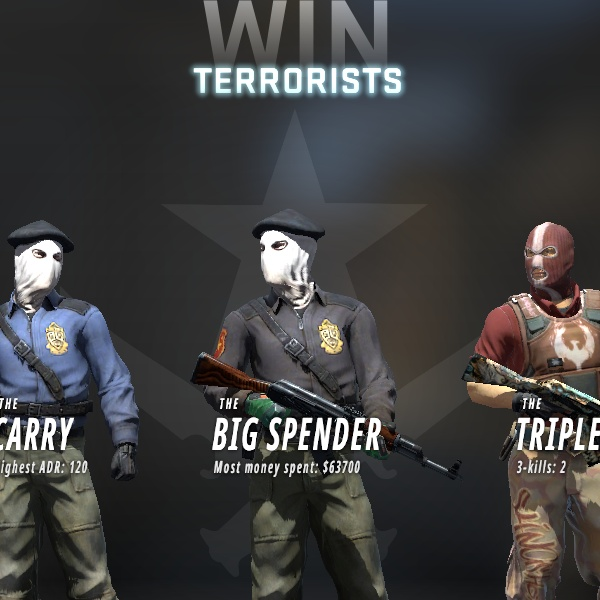t_body: (427, 199, 595, 600)
t_head: (497, 209, 599, 320)
